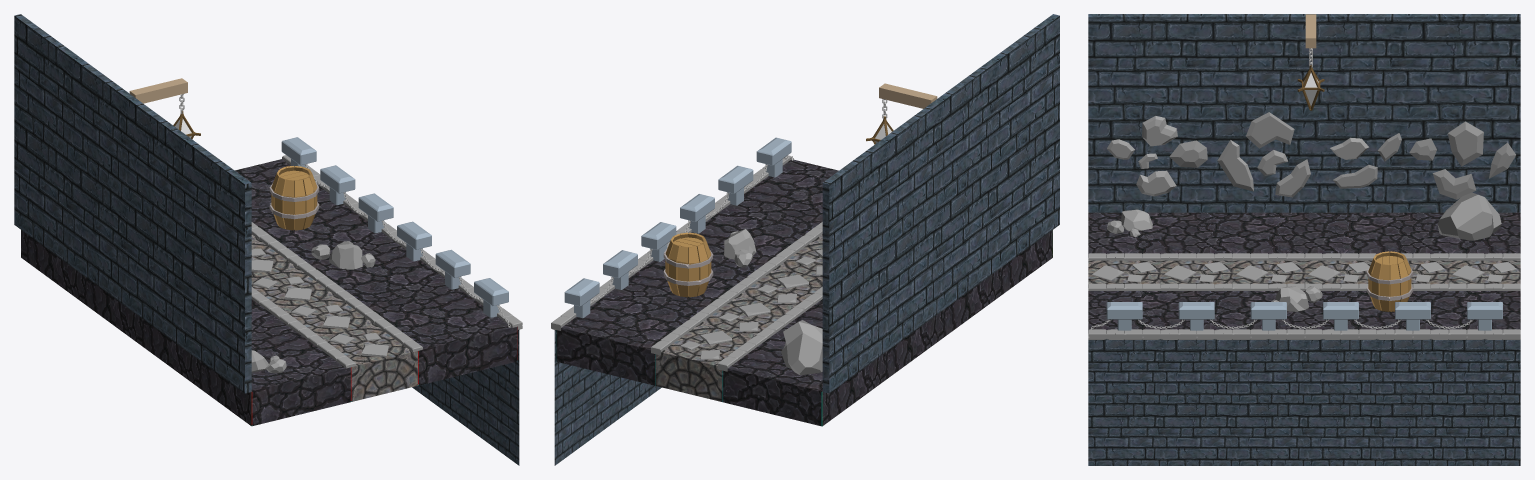
The model's file is 2中间路.fbx.
3 views of the same model, side by side, from view 1: azimuth 30°, elevation 25°; view 2: azimuth 150°, elevation 25°; view 3: azimuth 270°, elevation 25° (orthographic). The views are drawn at different scales.
Parts seen in each view (by area): view 1: 墙3, Plane.062, Plane.061, Plane.050, 2d路面, 栏杆, Cube.288, Circle.037, Cube.291, Cube.286, Cube.287, 不规则石头.003 (+4 smaller); view 2: 墙3, Plane.062, Plane.061, Plane.050, 2d路面, 栏杆, Cube.288, Circle.037, 不规则石头.006, Cube.286, Cube.291, Cube.287 (+5 smaller); view 3: 墙3, 2d路面, Plane.061, Plane.062, Plane.050, 栏杆, Cube.291, Vert.014, Cube.286, Vert.011, Vert.013, Cube.288 (+11 smaller).
Part boxes in pixels (x1=…): 墙3: x1=14, y1=14, x2=251, y2=393; Plane.062: x1=235, y1=159, x2=517, y2=385; Plane.061: x1=21, y1=230, x2=351, y2=426; Plane.050: x1=251, y1=234, x2=417, y2=401; 2d路面: x1=412, y1=330, x2=519, y2=465; 栏杆: x1=281, y1=137, x2=508, y2=317; Cube.288: x1=251, y1=222, x2=422, y2=351; Circle.037: x1=271, y1=166, x2=317, y2=230; Cube.291: x1=282, y1=155, x2=522, y2=329; Cube.286: x1=251, y1=287, x2=356, y2=368; Cube.287: x1=129, y1=78, x2=187, y2=103; 不规则石头.003: x1=329, y1=241, x2=362, y2=269; 墙3: x1=822, y1=14, x2=1059, y2=393; Plane.062: x1=556, y1=159, x2=838, y2=385; Plane.061: x1=722, y1=230, x2=1052, y2=426; Plane.050: x1=655, y1=234, x2=822, y2=401; 2d路面: x1=554, y1=330, x2=661, y2=465; 栏杆: x1=564, y1=137, x2=791, y2=318; Cube.288: x1=651, y1=222, x2=822, y2=355; Circle.037: x1=665, y1=232, x2=711, y2=297; 不规则石头.006: x1=781, y1=320, x2=822, y2=375; Cube.286: x1=717, y1=286, x2=822, y2=371; Cube.291: x1=551, y1=155, x2=791, y2=330; Cube.287: x1=879, y1=83, x2=937, y2=108; 墙3: x1=1088, y1=14, x2=1520, y2=212; 2d路面: x1=1088, y1=339, x2=1520, y2=465; Plane.061: x1=1088, y1=212, x2=1520, y2=254; Plane.062: x1=1088, y1=291, x2=1520, y2=330; Plane.050: x1=1088, y1=260, x2=1520, y2=284; 栏杆: x1=1106, y1=302, x2=1502, y2=330; Cube.291: x1=1088, y1=329, x2=1520, y2=339; Vert.014: x1=1217, y1=112, x2=1310, y2=197; Cube.286: x1=1088, y1=253, x2=1520, y2=260; Vert.011: x1=1409, y1=121, x2=1515, y2=199; Vert.013: x1=1107, y1=116, x2=1207, y2=196; Cube.288: x1=1088, y1=283, x2=1520, y2=290.
Size of the model in its own units: 835 by 1008 by 1201.
